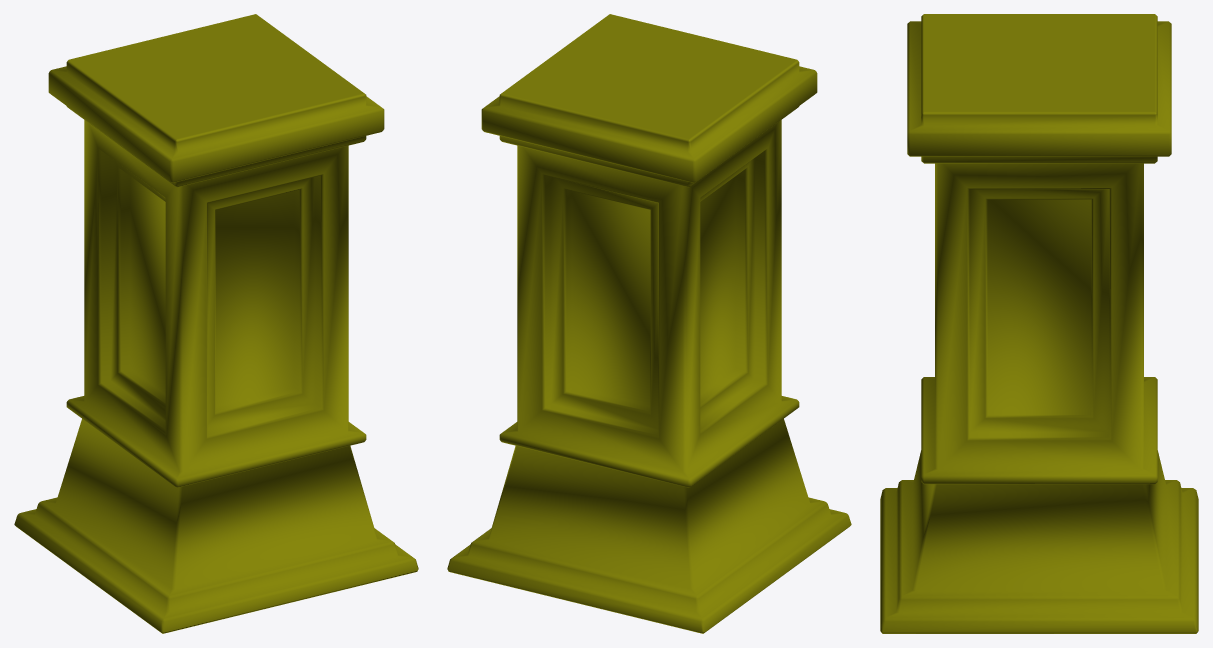
Rendered from W1_Pilier_Carre_2_4m.fbx.
The picture shows the model from 3 angles, left to right: view 1: azimuth 30°, elevation 25°; view 2: azimuth 150°, elevation 25°; view 3: azimuth 270°, elevation 25°; orthographic projection. The views are drawn at different scales.
Parts seen in each view (by area): view 1: W1_Pilier_Carre_2_4m; view 2: W1_Pilier_Carre_2_4m; view 3: W1_Pilier_Carre_2_4m.
Part boxes in pixels (<box>): W1_Pilier_Carre_2_4m: <box>14,14,418,633</box>; W1_Pilier_Carre_2_4m: <box>447,14,851,633</box>; W1_Pilier_Carre_2_4m: <box>880,14,1198,633</box>.
Size of the model in its own units: 229 by 400 by 229.
